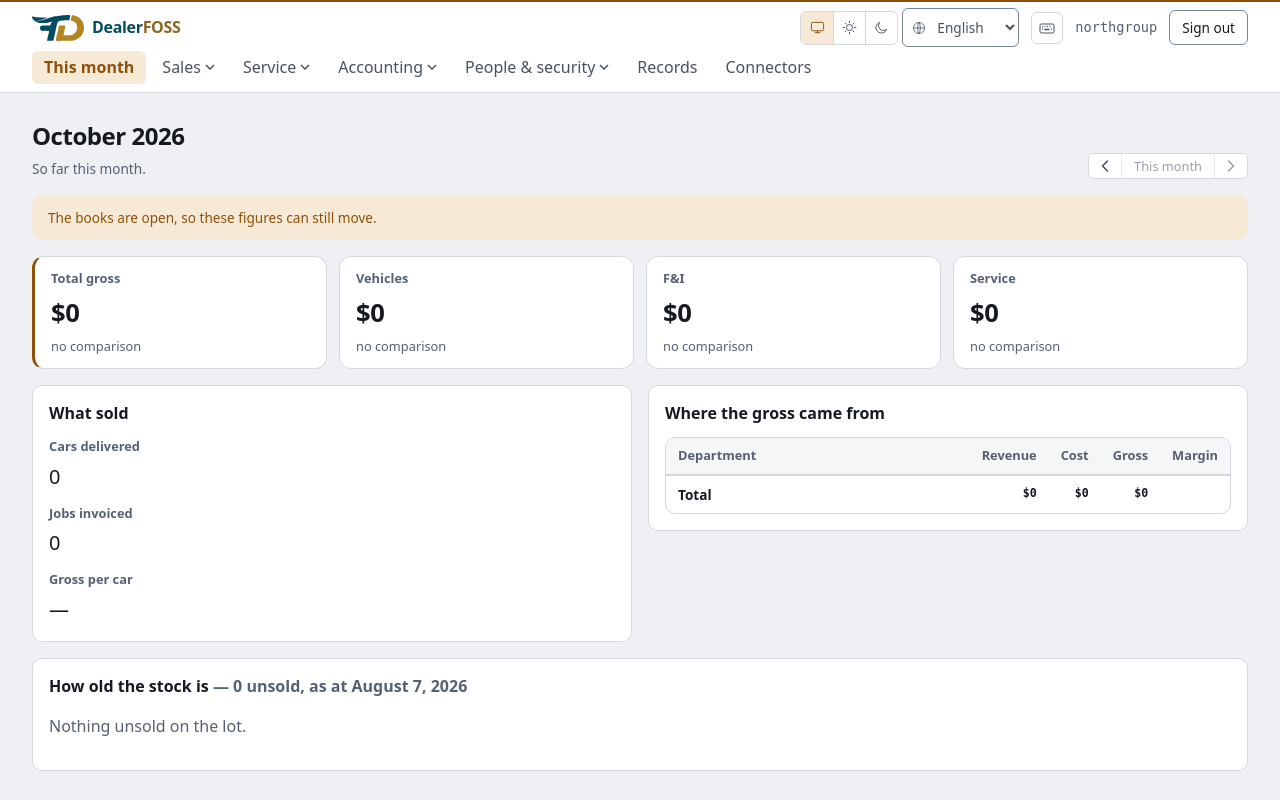
the application shell › lands on the month and shows the navigation once signed in
Expected: the text "So far this month." is shown, left=32, top=159, right=146, bottom=178
Click the button "Accounting" at {"x": 388, "y": 67}, box left=326, top=51, right=449, bottom=84
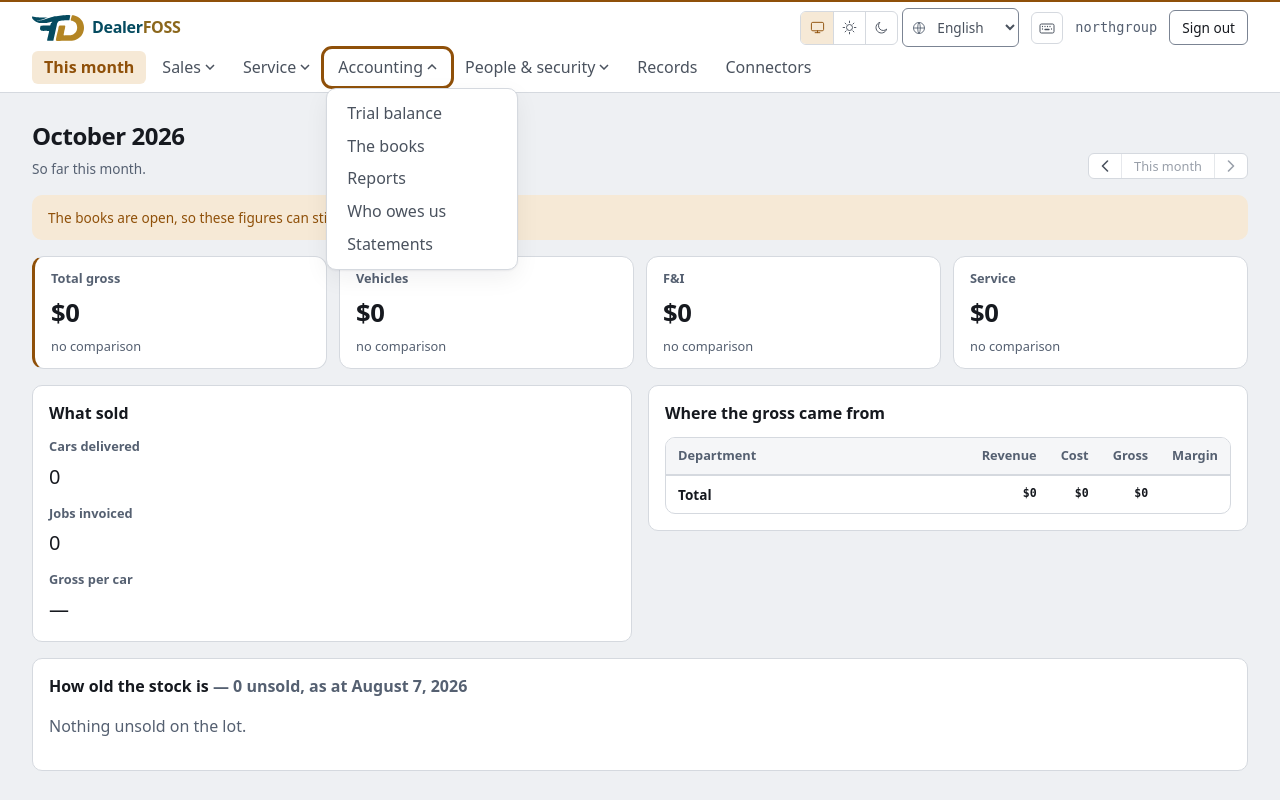
Expected: the button "Sign out" is shown, left=1169, top=10, right=1248, bottom=45
Expected: the link "Trial balance" is shown, left=347, top=102, right=442, bottom=124
